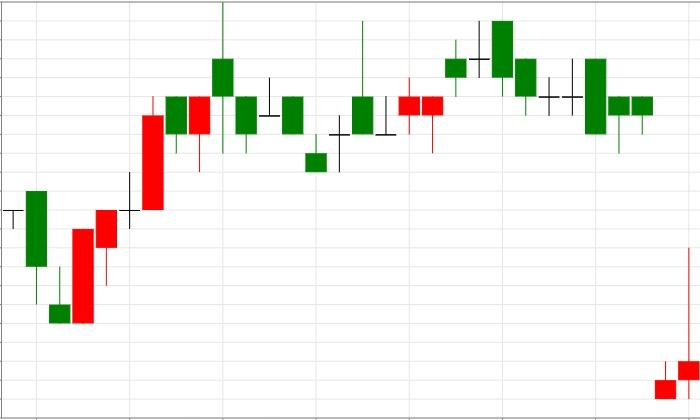bullish_engulfing_rise: (2, 190, 94, 324)
